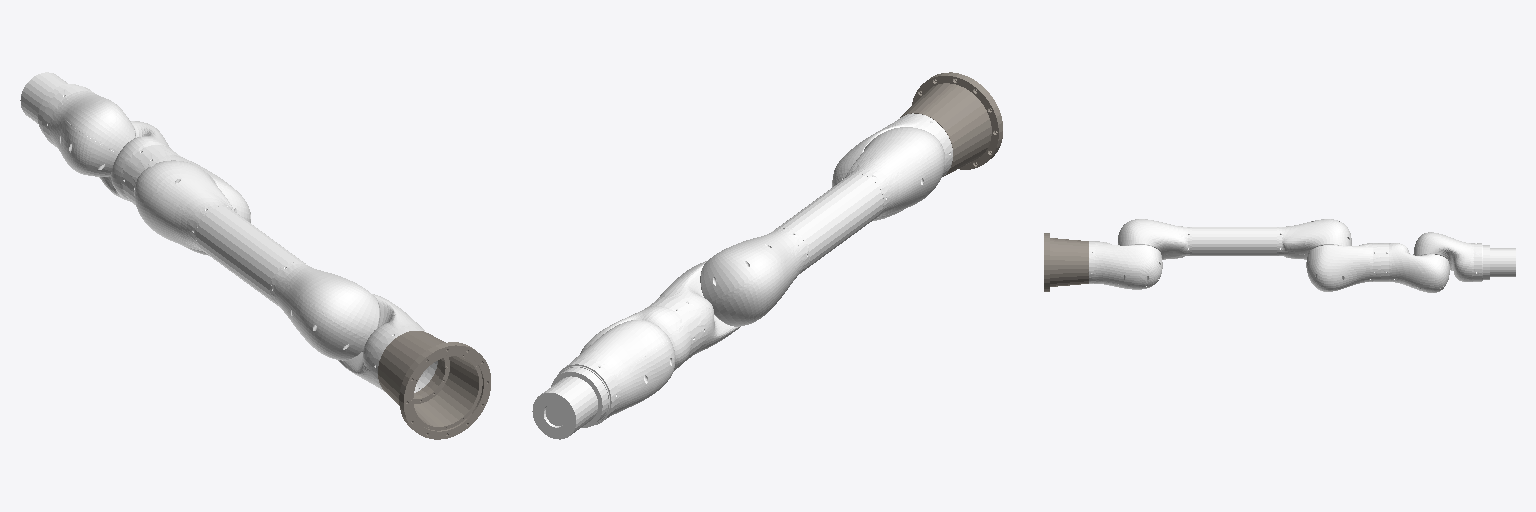
The robot description file, URDF, robot "siaarm":
<robot
  name="siaarm">
  <link
    name="base_link">
    <inertial>
      <origin
        xyz="-6.4185E-17 0.062924 0"
        rpy="0 3.1416 0" />
      <mass
        value="6.7406" />
      <inertia
        ixx="0.033492"
        ixy="-2.6365E-17"
        ixz="5.2001E-18"
        iyy="0.040462"
        iyz="2.2306E-17"
        izz="0.033492" />
    </inertial>
    <visual>
      <origin
        xyz="0 0 0"
        rpy="0 0 0" />
      <geometry>
        <mesh
          filename="meshes_siaarm/base_link.STL" />
      </geometry>
      <material
        name="">
        <color
          rgba="0.64706 0.61961 0.58824 1" />
      </material>
    </visual>
    <collision>
      <origin
        xyz="0 0 0"
        rpy="0 0 0" />
      <geometry>
        <mesh
          filename="meshes_siaarm/base_link.STL" />
      </geometry>
    </collision>
  </link>
  <link
    name="arm1">
    <inertial>
      <origin
        xyz="-0.020682 0.1229 4.5156E-05"
        rpy="0 0 0" />
      <mass
        value="0.33222" />
      <inertia
        ixx="0.0026785"
        ixy="0.00029038"
        ixz="-2.06E-07"
        iyy="0.0015913"
        iyz="-4.8054E-07"
        izz="0.0025051" />
    </inertial>
    <visual>
      <origin
        xyz="0 0 0"
        rpy="0 0 0" />
      <geometry>
        <mesh
          filename="meshes_siaarm/arm1.STL" />
      </geometry>
      <material
        name="">
        <color
          rgba="1 1 1 1" />
      </material>
    </visual>
    <collision>
      <origin
        xyz="0 0 0"
        rpy="0 0 0" />
      <geometry>
        <mesh
          filename="meshes_siaarm/arm1.STL" />
      </geometry>
    </collision>
  </link>
  <joint
    name="j1"
    type="revolute">
    <origin
      xyz="0 0.15 0"
      rpy="-3.1416 -0.62856 3.1416" />
    <parent
      link="base_link" />
    <child
      link="arm1" />
    <axis
      xyz="0 1 0" />
    <limit
      lower="-3.14"
      upper="3.14"
      effort="0"
      velocity="0" />
  </joint>
  <link
    name="arm2">
    <inertial>
      <origin
        xyz="0.0010896 0.058096 -0.32"
        rpy="0 0 0" />
      <mass
        value="0.91285" />
      <inertia
        ixx="0.054384"
        ixy="5.5878E-06"
        ixz="1.7872E-06"
        iyy="0.054708"
        iyz="-0.00014894"
        izz="0.0028672" />
    </inertial>
    <visual>
      <origin
        xyz="0 0 0"
        rpy="0 0 0" />
      <geometry>
        <mesh
          filename="meshes_siaarm/arm2.STL" />
      </geometry>
      <material
        name="">
        <color
          rgba="1 1 1 1" />
      </material>
    </visual>
    <collision>
      <origin
        xyz="0 0 0"
        rpy="0 0 0" />
      <geometry>
        <mesh
          filename="meshes_siaarm/arm2.STL" />
      </geometry>
    </collision>
  </link>
  <joint
    name="j2"
    type="revolute">
    <origin
      xyz="0.0295 0.1755 0"
      rpy="1.5708 1.5708 0" />
    <parent
      link="arm1" />
    <child
      link="arm2" />
    <axis
      xyz="0 1 0" />
    <limit
      lower="-1.57"
      upper="1.57"
      effort="0"
      velocity="0" />
  </joint>
  <link
    name="arm3">
    <inertial>
      <origin
        xyz="0.0013837 0.052028 -0.048543"
        rpy="0 0 0" />
      <mass
        value="0.33646" />
      <inertia
        ixx="0.0026"
        ixy="1.4343E-05"
        ixz="-3.2114E-05"
        iyy="0.0026807"
        iyz="-0.00032384"
        izz="0.001479" />
    </inertial>
    <visual>
      <origin
        xyz="0 0 0"
        rpy="0 0 0" />
      <geometry>
        <mesh
          filename="meshes_siaarm/arm3.STL" />
      </geometry>
      <material
        name="">
        <color
          rgba="1 1 1 1" />
      </material>
    </visual>
    <collision>
      <origin
        xyz="0 0 0"
        rpy="0 0 0" />
      <geometry>
        <mesh
          filename="meshes_siaarm/arm3.STL" />
      </geometry>
    </collision>
  </link>
  <joint
    name="j3"
    type="revolute">
    <origin
      xyz="0 0 -0.64"
      rpy="6.7856E-17 7.7112E-17 -3.1416" />
    <parent
      link="arm2" />
    <child
      link="arm3" />
    <axis
      xyz="0 1 0" />
    <limit
      lower="-2.5"
      upper="2.5"
      effort="0"
      velocity="0" />
  </joint>
  <link
    name="arm4">
    <inertial>
      <origin
        xyz="1.0739E-05 0.11285 0.030029"
        rpy="0 0 0" />
      <mass
        value="0.29612" />
      <inertia
        ixx="0.0020154"
        ixy="3.7006E-07"
        ixz="3.3626E-07"
        iyy="0.0012812"
        iyz="-0.00044113"
        izz="0.0020268" />
    </inertial>
    <visual>
      <origin
        xyz="0 0 0"
        rpy="0 0 0" />
      <geometry>
        <mesh
          filename="meshes_siaarm/arm4.STL" />
      </geometry>
      <material
        name="">
        <color
          rgba="1 1 1 1" />
      </material>
    </visual>
    <collision>
      <origin
        xyz="0 0 0"
        rpy="0 0 0" />
      <geometry>
        <mesh
          filename="meshes_siaarm/arm4.STL" />
      </geometry>
    </collision>
  </link>
  <joint
    name="j4"
    type="revolute">
    <origin
      xyz="0 0.0295 -0.1765"
      rpy="-1.5708 -2.213E-16 7.1054E-15" />
    <parent
      link="arm3" />
    <child
      link="arm4" />
    <axis
      xyz="0 1 0" />
    <limit
      lower="-3.14"
      upper="3.14"
      effort="0"
      velocity="0" />
  </joint>
  <link
    name="arm5">
    <inertial>
      <origin
        xyz="-2.3593E-05 0.029535 -0.059153"
        rpy="0 0 0" />
      <mass
        value="0.29615" />
      <inertia
        ixx="0.0020155"
        ixy="-3.5874E-07"
        ixz="-3.1879E-07"
        iyy="0.0020268"
        iyz="-0.00044115"
        izz="0.0012813" />
    </inertial>
    <visual>
      <origin
        xyz="0 0 0"
        rpy="0 0 0" />
      <geometry>
        <mesh
          filename="meshes_siaarm/arm5.STL" />
      </geometry>
      <material
        name="">
        <color
          rgba="1 1 1 1" />
      </material>
    </visual>
    <collision>
      <origin
        xyz="0 0 0"
        rpy="0 0 0" />
      <geometry>
        <mesh
          filename="meshes_siaarm/arm5.STL" />
      </geometry>
    </collision>
  </link>
  <joint
    name="j5"
    type="revolute">
    <origin
      xyz="0 0.172 0.0005"
      rpy="-1.5708 -5.5511E-16 3.1416" />
    <parent
      link="arm4" />
    <child
      link="arm5" />
    <axis
      xyz="0 1 0" />
    <limit
      lower="-1.57"
      upper="1.57"
      effort="0"
      velocity="0" />
  </joint>
  <link
    name="arm6">
    <inertial>
      <origin
        xyz="-1.3878E-17 0.06986 2.7756E-17"
        rpy="0 0 0" />
      <mass
        value="0.25088" />
      <inertia
        ixx="0.00054874"
        ixy="6.0589E-20"
        ixz="-9.4868E-20"
        iyy="0.00051459"
        iyz="4.4477E-20"
        izz="0.00054874" />
    </inertial>
    <visual>
      <origin
        xyz="0 0 0"
        rpy="0 0 0" />
      <geometry>
        <mesh
          filename="meshes_siaarm/arm6.STL" />
      </geometry>
      <material
        name="">
        <color
          rgba="1 1 1 1" />
      </material>
    </visual>
    <collision>
      <origin
        xyz="0 0 0"
        rpy="0 0 0" />
      <geometry>
        <mesh
          filename="meshes_siaarm/arm6.STL" />
      </geometry>
    </collision>
  </link>
  <joint
    name="j6"
    type="revolute">
    <origin
      xyz="0 -0.0005 -0.174"
      rpy="-1.5708 1.3531E-16 -0.40523" />
    <parent
      link="arm5" />
    <child
      link="arm6" />
    <axis
      xyz="0 1 0" />
    <limit
      lower="-3.14"
      upper="3.14"
      effort="0"
      velocity="0" />
  </joint>
</robot>

--- What the picture shows (computed from the rendered views, not written in the file) ---
The picture shows the robot from 3 angles, left to right: view 1: azimuth 30°, elevation 25°; view 2: azimuth 150°, elevation 25°; view 3: azimuth 270°, elevation 25°; orthographic projection.
Model siaarm with 7 links and 6 joints (6 revolute), rooted at base_link, posed every joint at zero.
Visible links, largest first — view 1: arm2, base_link, arm5, arm1, arm4, arm3, arm6; view 2: arm2, arm5, base_link, arm6, arm3, arm4, arm1; view 3: arm2, arm1, arm3, arm4, base_link, arm5, arm6.
Link boxes in pixels (x1=…): arm2: x1=134, y1=160, x2=379, y2=360; base_link: x1=378, y1=331, x2=490, y2=439; arm5: x1=42, y1=86, x2=135, y2=176; arm1: x1=338, y1=294, x2=437, y2=392; arm4: x1=99, y1=121, x2=173, y2=204; arm3: x1=129, y1=150, x2=250, y2=255; arm6: x1=20, y1=72, x2=78, y2=133; arm2: x1=700, y1=127, x2=944, y2=326; arm5: x1=557, y1=320, x2=675, y2=425; base_link: x1=900, y1=72, x2=1002, y2=176; arm6: x1=532, y1=367, x2=608, y2=439; arm3: x1=655, y1=261, x2=740, y2=357; arm4: x1=580, y1=300, x2=698, y2=371; arm1: x1=832, y1=113, x2=952, y2=220; arm2: x1=1118, y1=219, x2=1351, y2=259; arm1: x1=1089, y1=241, x2=1162, y2=289; arm3: x1=1306, y1=243, x2=1380, y2=291; arm4: x1=1381, y1=243, x2=1449, y2=292; base_link: x1=1044, y1=233, x2=1088, y2=291; arm5: x1=1413, y1=232, x2=1482, y2=281; arm6: x1=1483, y1=245, x2=1515, y2=279.
Bounding box of the posed robot: 0.2432 × 1.6 × 0.2209 m (x, y, z).
Meshes: 7 distinct files referenced, 7 mesh visuals loaded (7 binary STL).